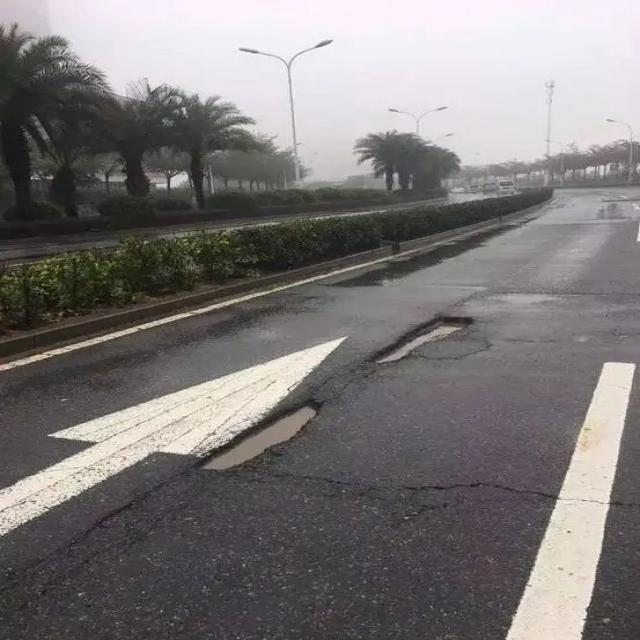Buraco: (191, 396, 327, 474), (363, 314, 479, 366)
